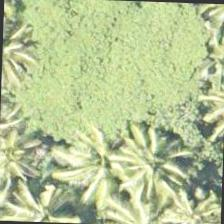Kelapa_Sawit: (48, 124, 142, 217), (101, 107, 194, 200), (0, 168, 93, 222)
